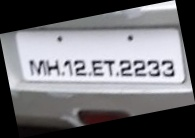character: (27, 58, 47, 76), (44, 57, 60, 77), (72, 58, 87, 76), (146, 58, 160, 77), (132, 58, 146, 76), (161, 59, 175, 77), (90, 59, 104, 76), (102, 58, 114, 77), (119, 59, 132, 76), (62, 59, 73, 77)
